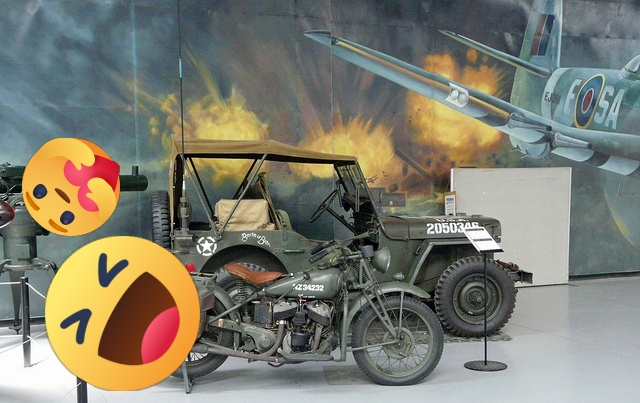care: (22, 138, 120, 236)
haha: (45, 236, 200, 391)
